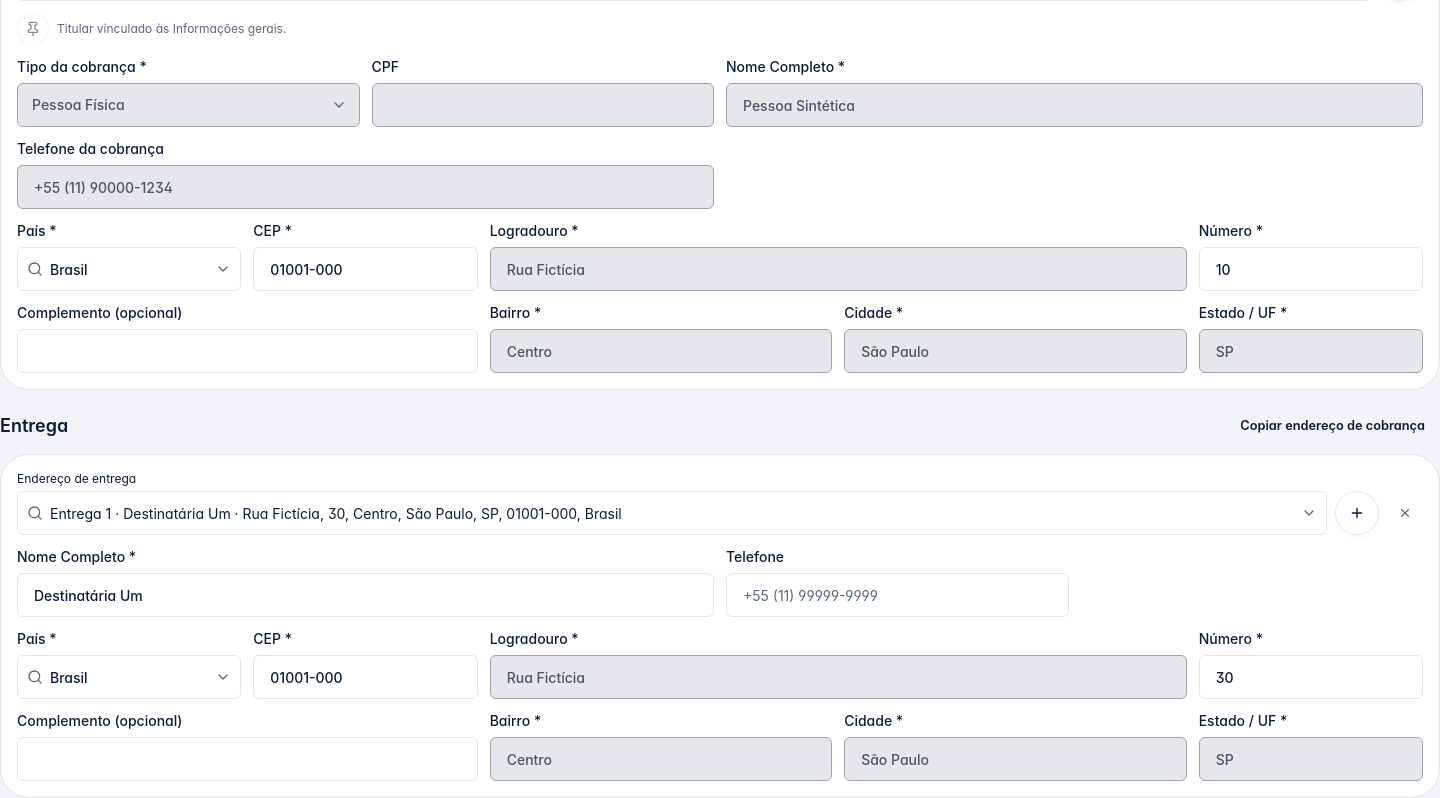
Test case: inclusão temporária e endereço postal único › Escape fecha a inclusão vazia e devolve o foco ao + sem alterar o cadastro
(page scrolled)
Click the button named "Adicionar endereço de entrega": [1357, 513] box [1335,491,1379,535]
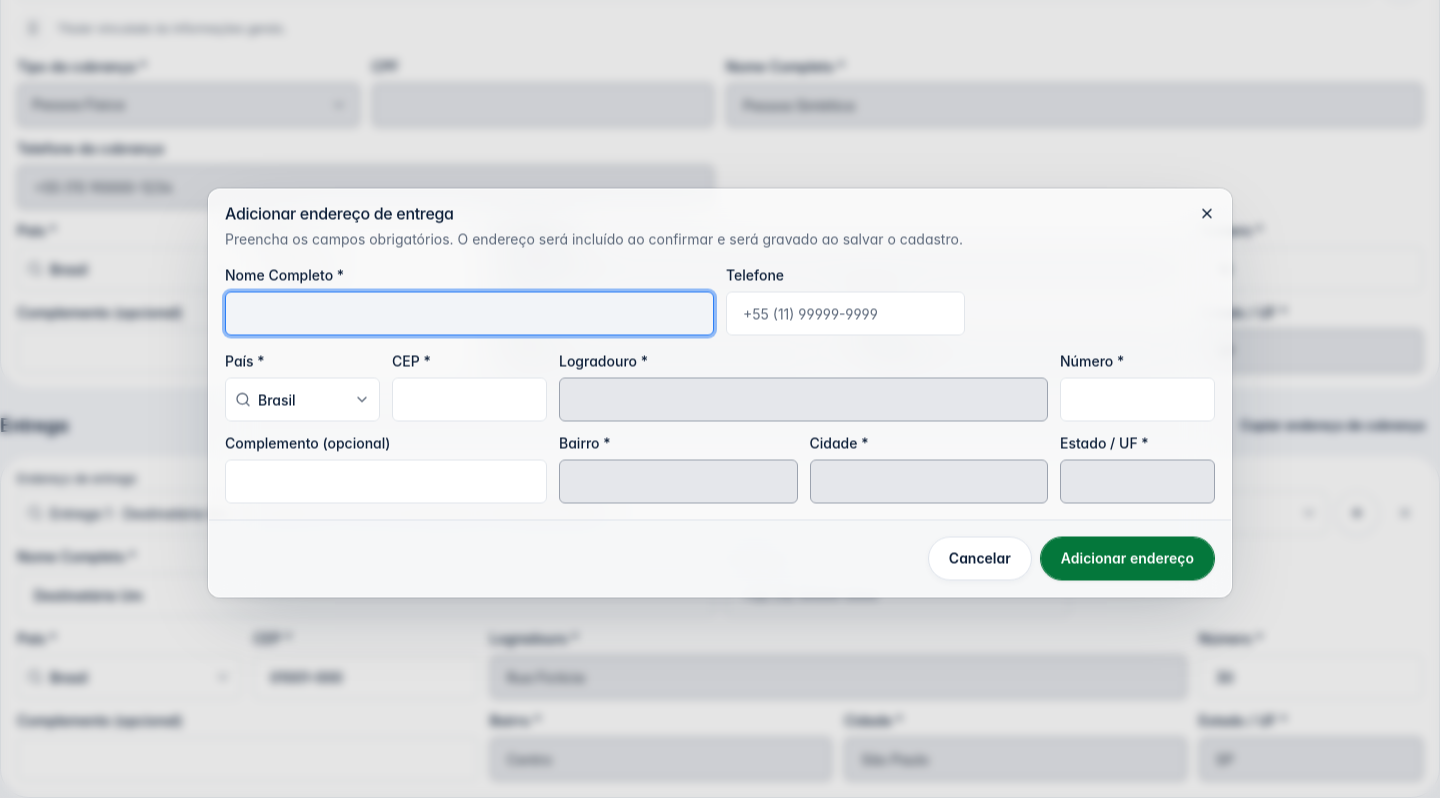
Press Escape
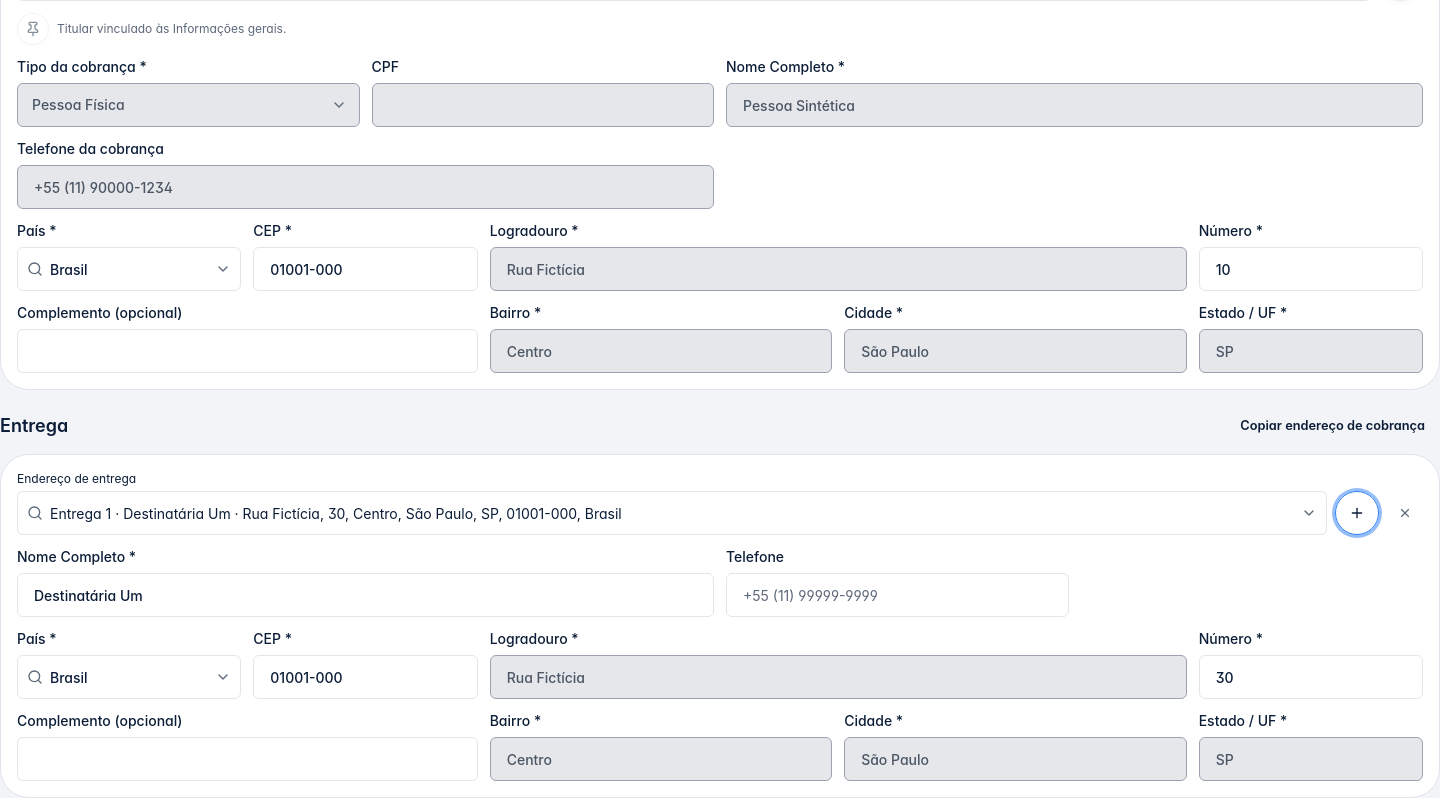
Expected: the dialog is gone
